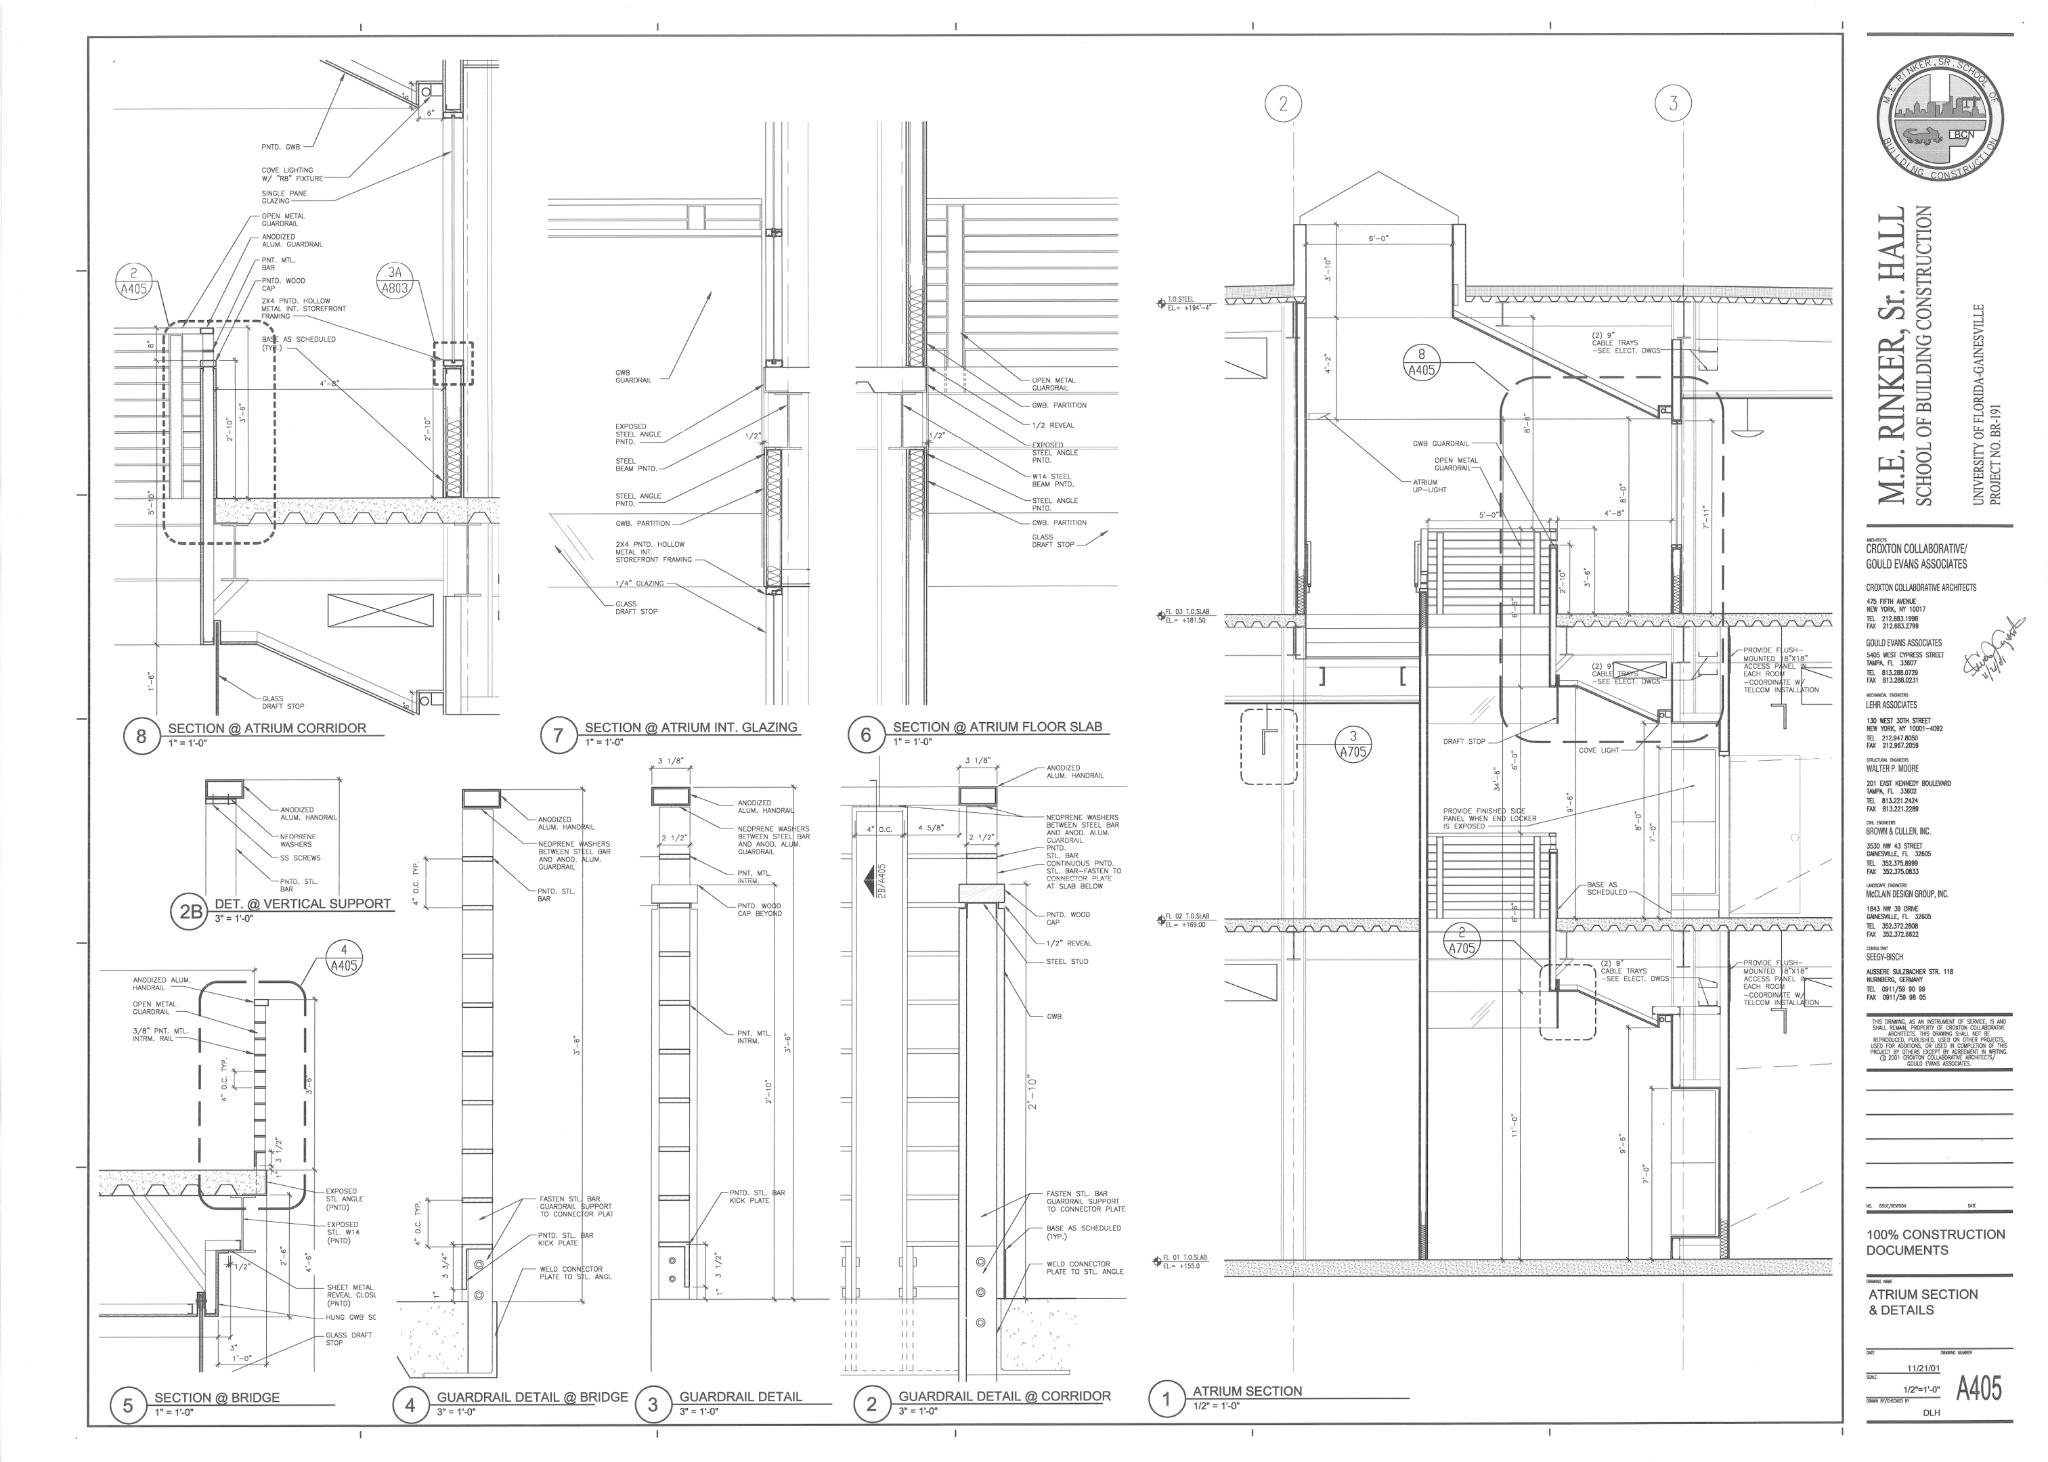detail: (1400, 342, 1507, 394), (1441, 919, 1542, 970), (304, 937, 365, 989), (1300, 725, 1374, 764)
elevation: (375, 258, 433, 340), (863, 753, 894, 900), (108, 261, 171, 324)
